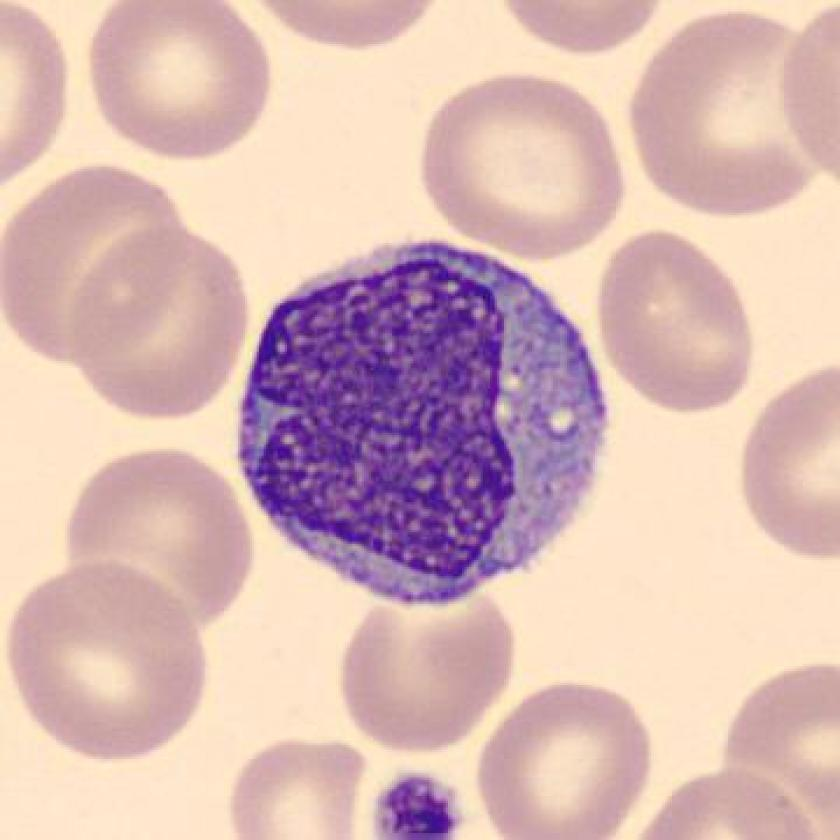monocyte: (218, 223, 629, 626)
